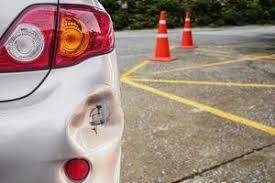dent: (58, 84, 131, 155)
scratch: (86, 98, 111, 133)
